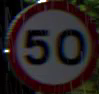Speed limit: (6, 1, 97, 88)
